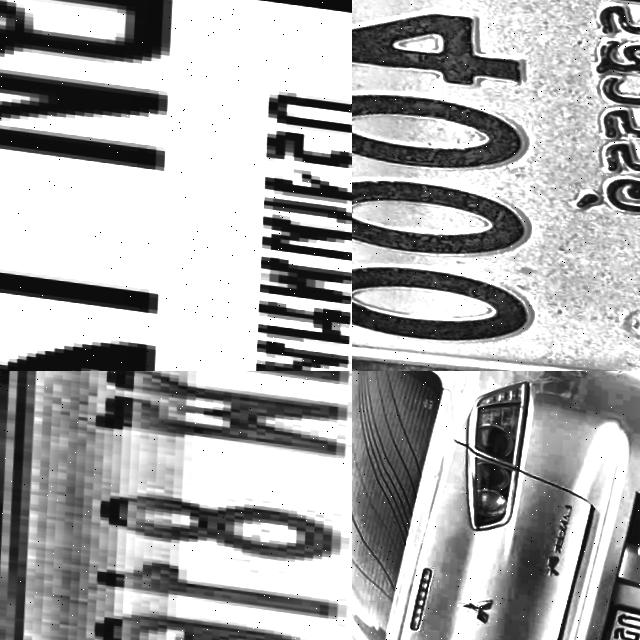license-plate: (0, 0, 352, 371), (352, 0, 640, 371), (0, 371, 352, 640), (580, 592, 640, 640)
